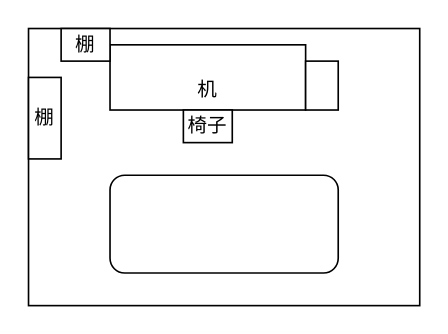
Some shapes in this 448 by 334 pixel diagram are drawn without their labels. The shapes that lost their labels are listed below. From the top down, each one's box as (x1, y1, x2, y2) in pixels, then its label:
(304, 59, 338, 110): pc
(108, 174, 338, 273): 布団
